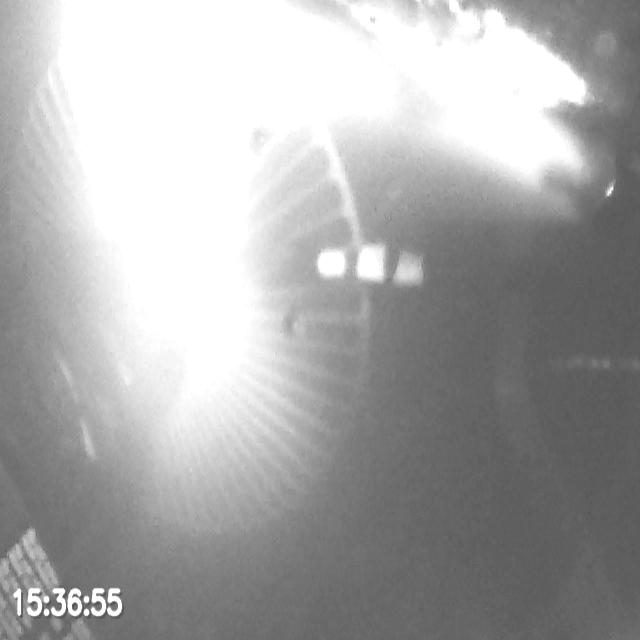white-dots: (316, 241, 425, 291)
